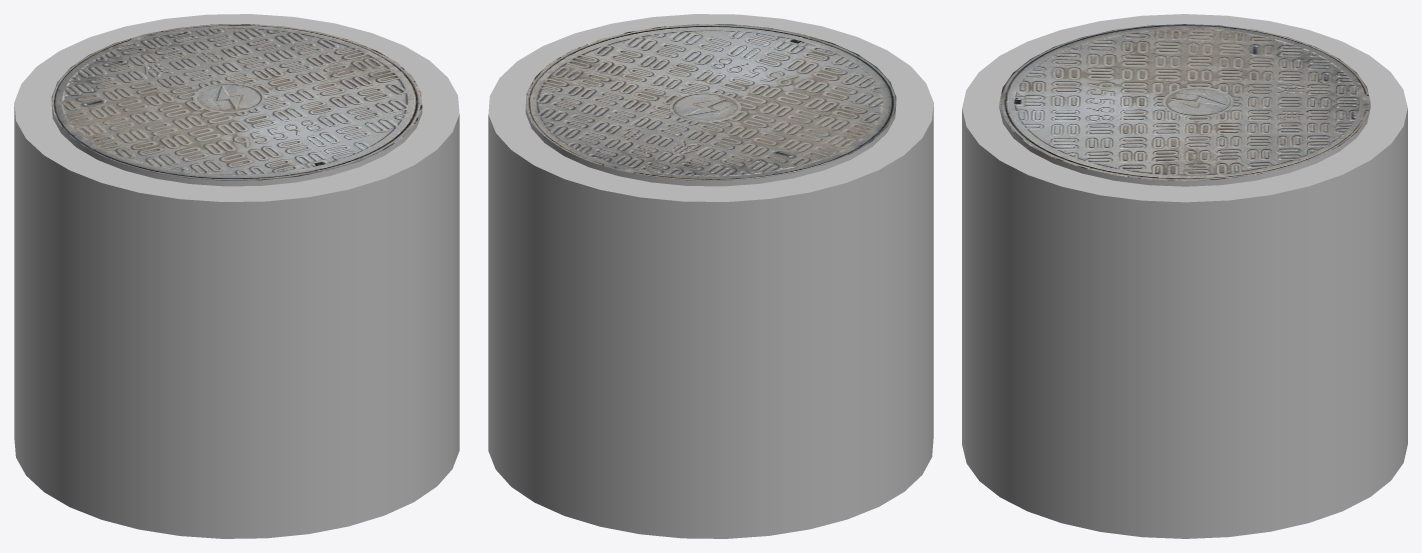
The picture shows the model from 3 angles, left to right: view 1: azimuth 30°, elevation 25°; view 2: azimuth 150°, elevation 25°; view 3: azimuth 270°, elevation 25°; orthographic projection.
Visible parts, largest first — view 1: 518040; view 2: 518040; view 3: 518040.
Boxes of the visible parts, x1,y1,x2,y2 form: 518040: [14, 14, 459, 538]; 518040: [488, 14, 933, 538]; 518040: [962, 14, 1407, 538].
Size of the model in its own units: 1.2 by 1.02 by 1.2.
Materials: 3 (1 with a texture image).
